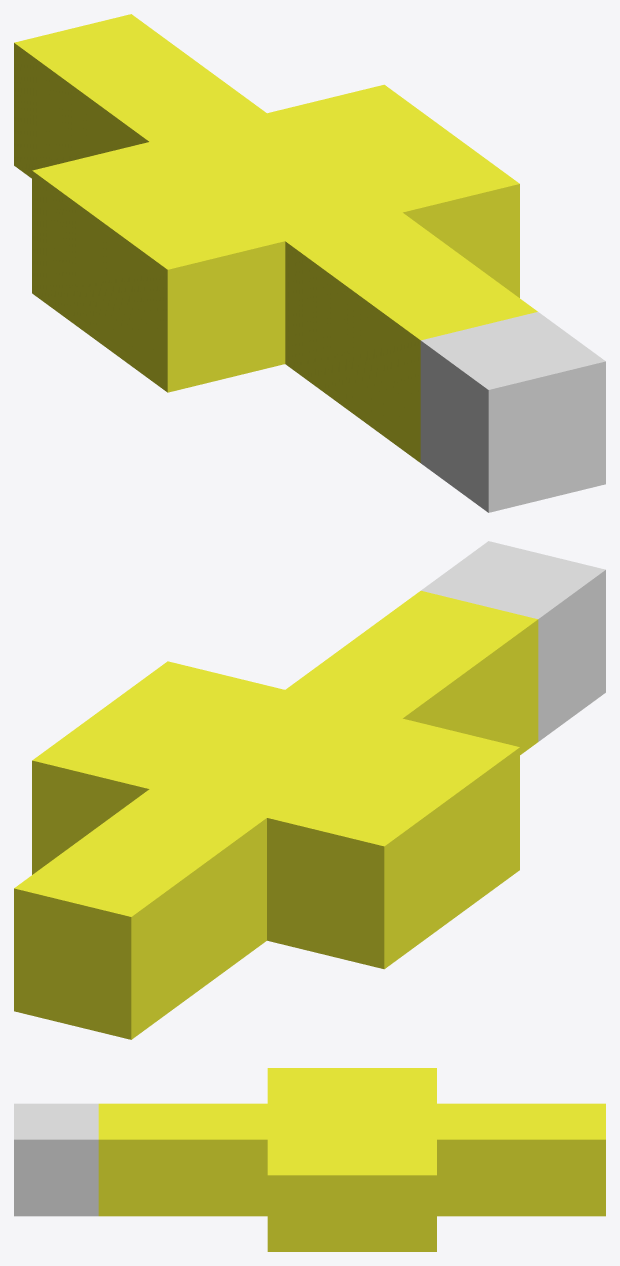
File: Key.obj
3 views of the same model, one above another, from view 1: azimuth 30°, elevation 25°; view 2: azimuth 150°, elevation 25°; view 3: azimuth 270°, elevation 25° (orthographic). The views are drawn at different scales.
Bounding box in the file's own units: 3 × 1 × 7.
1 material, 1 textured.
